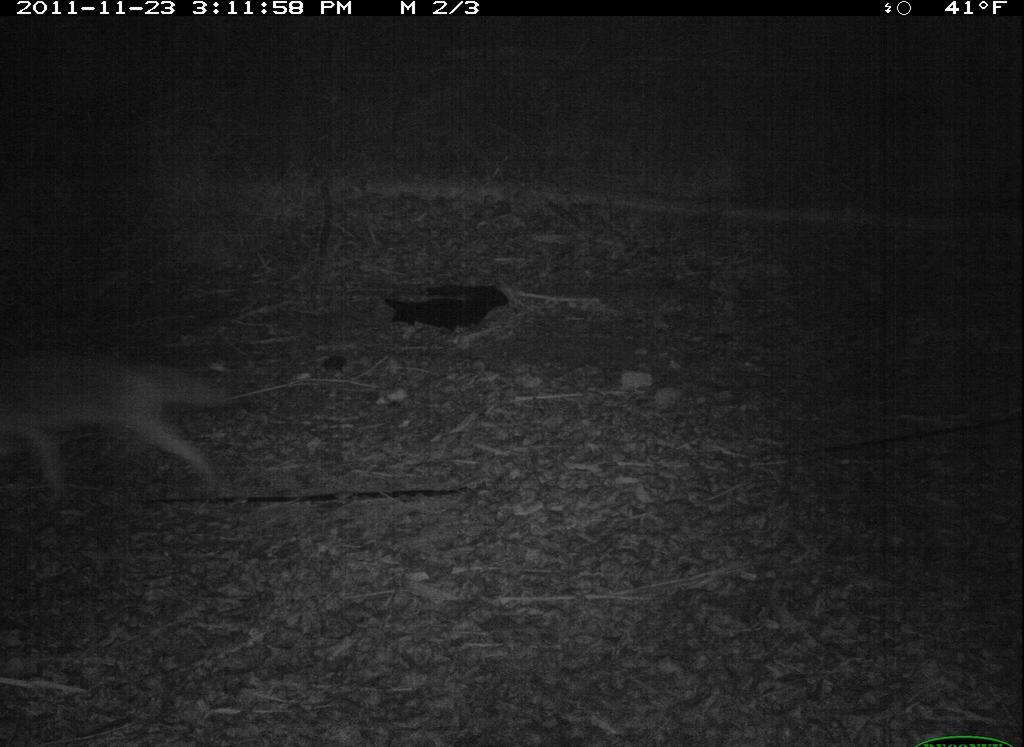coyote: (17, 313, 258, 515)
